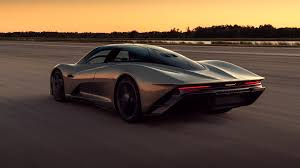car: (43, 41, 273, 130)
